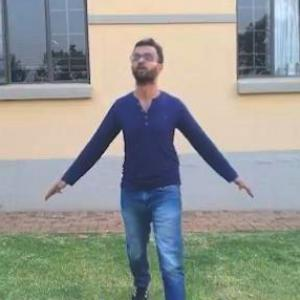land: (43, 14, 298, 298)
